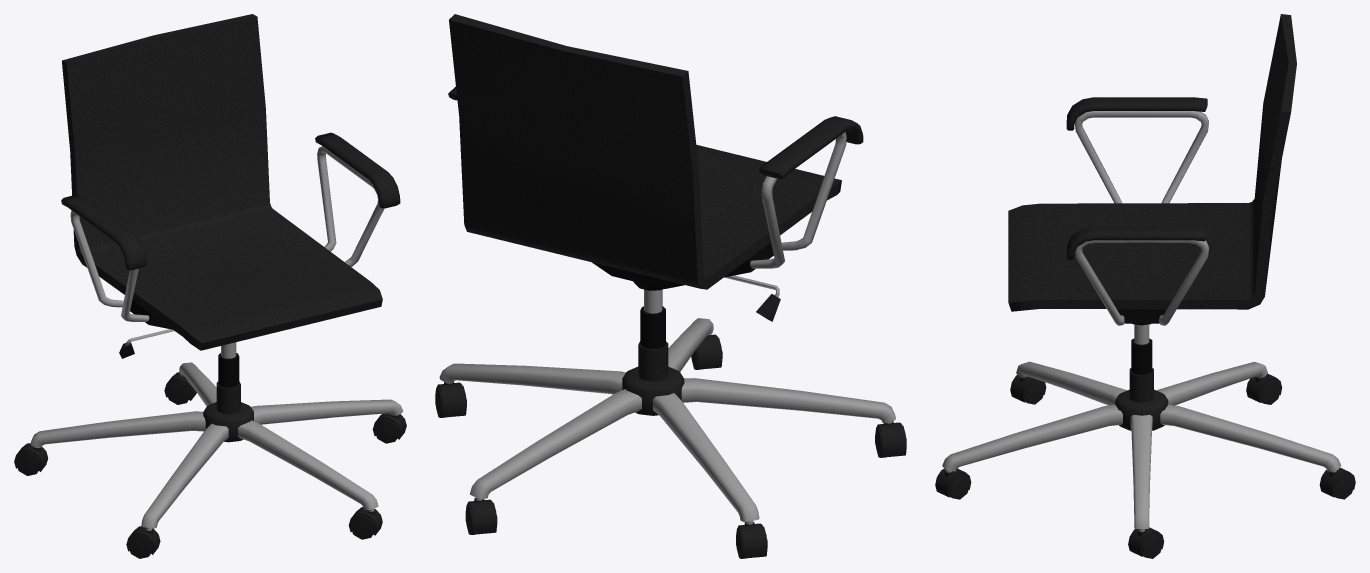
Rendered from chair 01.FBX.
3 renders of one model, left to right at view 1: azimuth 30°, elevation 25°; view 2: azimuth 150°, elevation 25°; view 3: azimuth 270°, elevation 25°, orthographic. The views are drawn at different scales.
Parts seen in each view (by area): view 1: mainbody, leg, wheel_01, wheel_02, wheel_05, wheel_03, wheel_04; view 2: mainbody, leg, wheel_05, wheel_04, wheel_01, wheel_03, wheel_02, handle; view 3: mainbody, leg, wheel_03, wheel_02, wheel_04, wheel_05, wheel_01.
Part boxes in pixels (bbox=[...]): mainbody: bbox=[61, 14, 400, 350]; leg: bbox=[30, 342, 402, 528]; wheel_01: bbox=[126, 526, 160, 558]; wheel_02: bbox=[348, 507, 382, 539]; wheel_05: bbox=[14, 443, 48, 475]; wheel_03: bbox=[372, 413, 406, 443]; wheel_04: bbox=[164, 372, 196, 404]; mainbody: bbox=[448, 14, 863, 290]; leg: bbox=[439, 289, 895, 521]; wheel_05: bbox=[736, 521, 767, 558]; wheel_04: bbox=[465, 497, 497, 534]; wheel_01: bbox=[875, 421, 906, 457]; wheel_03: bbox=[435, 382, 466, 417]; wheel_02: bbox=[691, 334, 722, 369]; handle: bbox=[724, 275, 780, 321]; mainbody: bbox=[1008, 14, 1296, 325]; leg: bbox=[942, 324, 1341, 528]; wheel_03: bbox=[1128, 527, 1164, 558]; wheel_02: bbox=[935, 468, 971, 499]; wheel_04: bbox=[1319, 467, 1355, 499]; wheel_05: bbox=[1246, 374, 1282, 404]; wheel_01: bbox=[1010, 374, 1046, 404].
Bounding box in the file's own units: 71.87 × 81.16 × 75.52.
3 materials, 1 textured.
